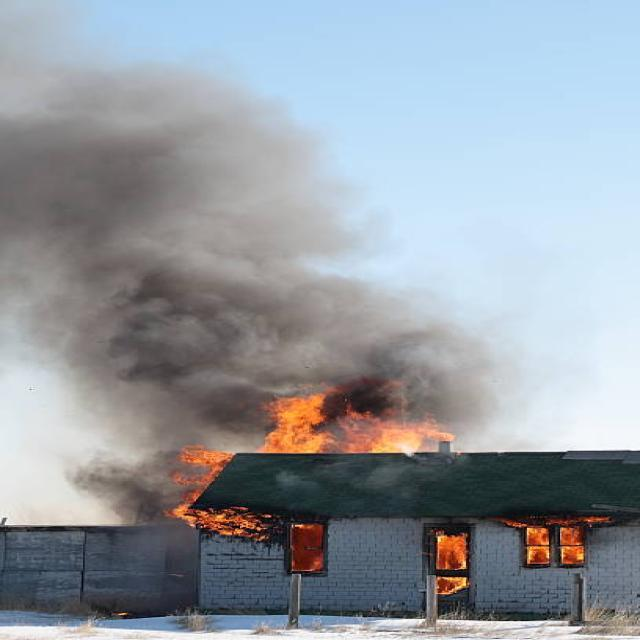Fire: (180, 390, 628, 599)
Smoke: (9, 44, 529, 462)
